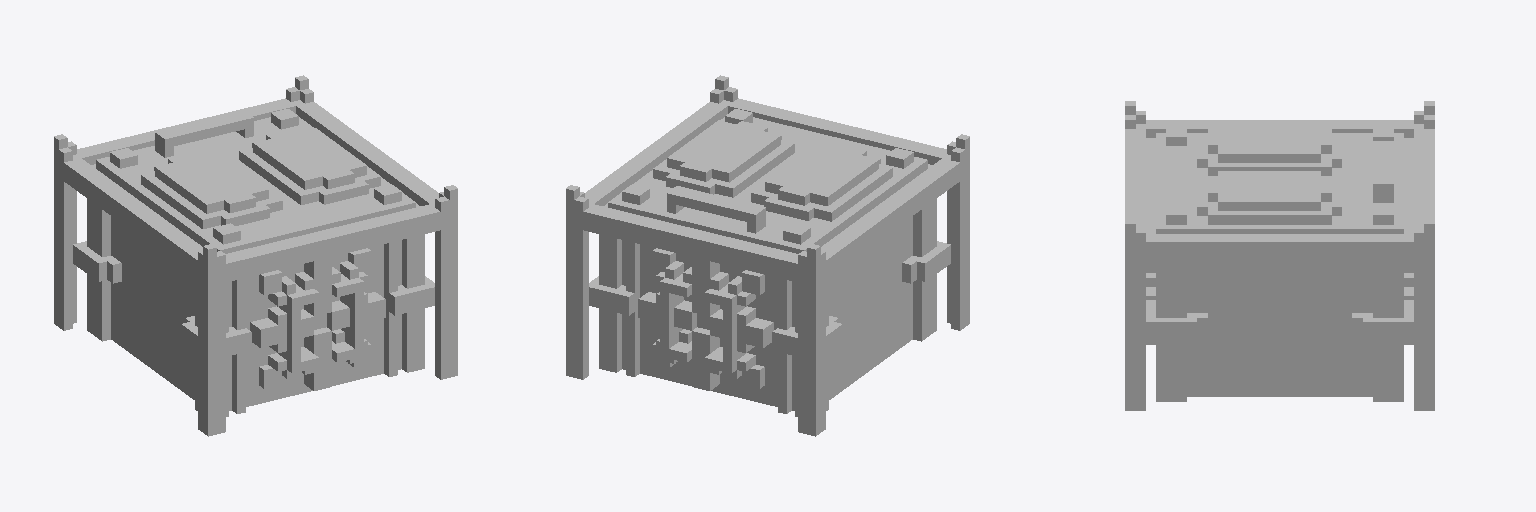
The model's file is LentesB-Rec.obj.
The picture shows the model from 3 angles: view 1: azimuth 30°, elevation 25°; view 2: azimuth 150°, elevation 25°; view 3: azimuth 270°, elevation 25°; orthographic projection.
Parts seen in each view (by area): view 1: Untitled, Untitled.001; view 2: Untitled, Untitled.001; view 3: Untitled, Untitled.001.
Part boxes in pixels (bbox=[...]): Untitled: bbox=[54, 75, 457, 436]; Untitled.001: bbox=[96, 109, 415, 253]; Untitled: bbox=[566, 75, 969, 436]; Untitled.001: bbox=[608, 109, 927, 253]; Untitled: bbox=[1125, 101, 1434, 410]; Untitled.001: bbox=[1156, 123, 1403, 233].
Bounding box in the file's own units: 2.8 × 2 × 3.